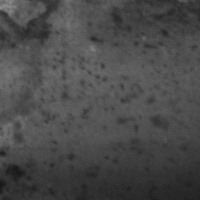patches: (1, 4, 56, 43)
pitted_surface: (7, 112, 192, 189), (14, 51, 178, 136), (91, 2, 197, 81)
